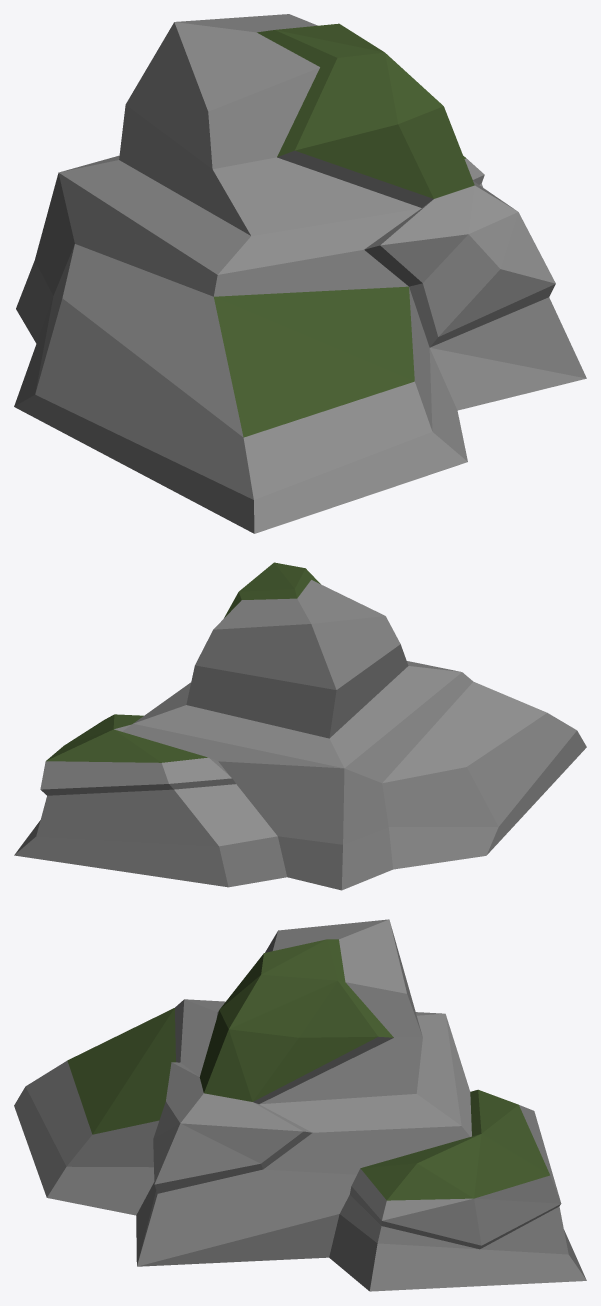
The model's file is brigesstone_with_moss_2_001.fbx.
3 renders of one model, top to bottom at view 1: azimuth 30°, elevation 25°; view 2: azimuth 150°, elevation 25°; view 3: azimuth 270°, elevation 25°, orthographic. The views are drawn at different scales.
Parts seen in each view (by area): view 1: stone_with_moss_2.001; view 2: stone_with_moss_2.001; view 3: stone_with_moss_2.001.
Part boxes in pixels (bbox=[...]): stone_with_moss_2.001: bbox=[14, 14, 586, 533]; stone_with_moss_2.001: bbox=[14, 562, 586, 890]; stone_with_moss_2.001: bbox=[14, 919, 586, 1291].
Size of the model in its own units: 161 by 91.24 by 189.
